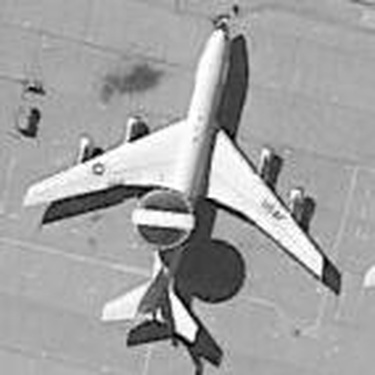airplane: (12, 21, 339, 351), (353, 240, 373, 306)
